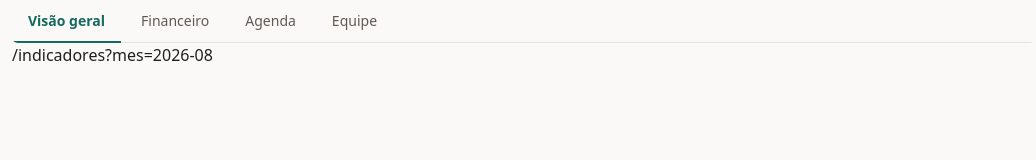
Scenario: BarraDeAbas — navegação da área, com o período junto › deve levar o mês corrente para a aba de destino
The width and height of the screenshot is (1036, 160).
Click the link "Financeiro".
click(175, 20)  # box x1=141 y1=11 x2=209 y2=30
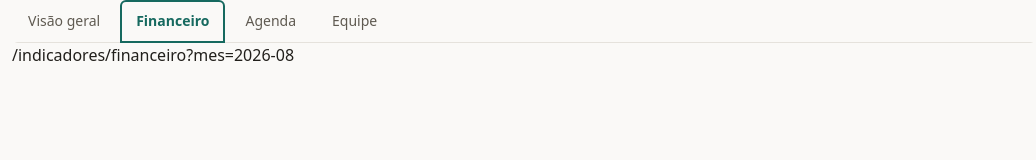
Expected: the text with test id "endereco" reads "/indicadores/financeiro?mes=2026-08", x1=12 y1=44 x2=294 y2=66
